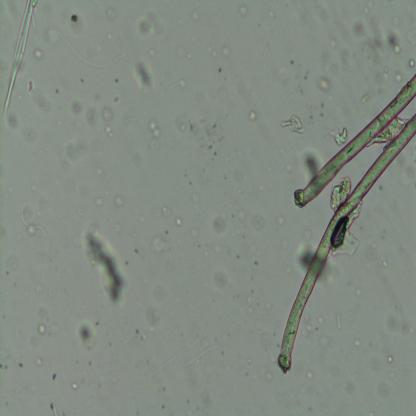Background material: (80, 224, 129, 307), (186, 111, 225, 158), (354, 18, 404, 53), (332, 222, 366, 256), (220, 196, 242, 246), (134, 54, 158, 95), (137, 296, 161, 331), (138, 9, 164, 36), (300, 144, 318, 179), (330, 178, 347, 211), (78, 320, 96, 350), (297, 247, 315, 270), (64, 97, 84, 117), (300, 312, 314, 340), (360, 88, 378, 108), (66, 10, 84, 30), (151, 234, 171, 252), (146, 117, 162, 139), (331, 123, 347, 145), (277, 235, 295, 253), (102, 3, 118, 23), (212, 213, 225, 237), (315, 76, 332, 94), (300, 365, 316, 382), (312, 307, 327, 325), (316, 95, 327, 119), (102, 106, 115, 126), (160, 201, 173, 220), (47, 23, 58, 45), (260, 332, 273, 350), (30, 46, 44, 62), (380, 62, 391, 82), (245, 295, 257, 313), (407, 26, 416, 48), (270, 212, 284, 226), (244, 239, 257, 254), (264, 4, 277, 19), (180, 49, 195, 62), (35, 320, 48, 335), (318, 333, 330, 349), (175, 76, 188, 90), (25, 80, 39, 93), (67, 379, 80, 393), (247, 108, 260, 122), (93, 165, 106, 178), (104, 126, 116, 140), (238, 4, 250, 18), (327, 36, 338, 51), (113, 194, 124, 209), (222, 44, 232, 60), (350, 339, 364, 350), (204, 46, 216, 58), (94, 193, 104, 207), (34, 354, 44, 368), (366, 0, 378, 11), (174, 216, 184, 229), (296, 87, 305, 101), (109, 375, 119, 387), (396, 70, 404, 84), (191, 239, 201, 250), (0, 359, 10, 370), (386, 352, 395, 364), (112, 93, 121, 105), (354, 283, 361, 298), (16, 359, 25, 370), (190, 9, 199, 20), (130, 246, 140, 255), (146, 46, 155, 56), (51, 371, 59, 382), (267, 367, 273, 381), (132, 326, 140, 336), (410, 57, 416, 69), (54, 87, 60, 98), (288, 57, 294, 67), (216, 66, 223, 74), (246, 357, 252, 366), (79, 75, 84, 85), (253, 258, 259, 266), (140, 333, 146, 341), (113, 76, 118, 84), (235, 254, 241, 260), (88, 359, 92, 367)
Glass filter fibre: (2, 2, 38, 124), (55, 30, 126, 68), (18, 202, 50, 239), (282, 108, 308, 134), (184, 347, 213, 370), (334, 312, 344, 332), (50, 403, 60, 415)
Microfibre: (277, 110, 416, 376), (292, 68, 416, 210)
